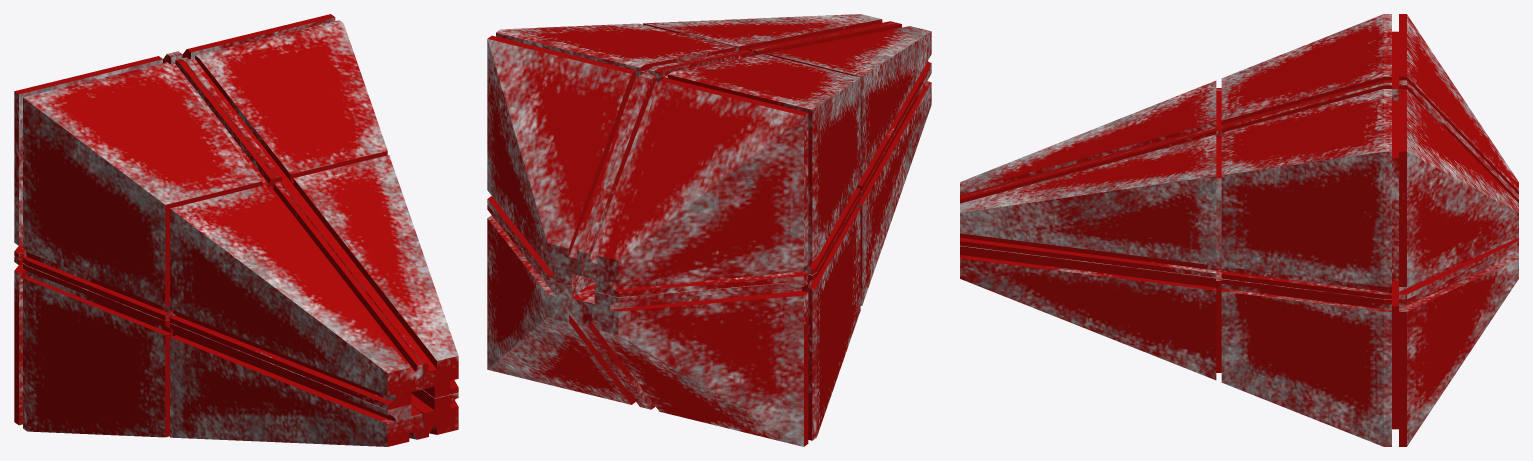
File: bit.fbx
The picture shows the model from 3 angles, left to right: view 1: azimuth 30°, elevation 25°; view 2: azimuth 150°, elevation 25°; view 3: azimuth 270°, elevation 25°; orthographic projection. The views are drawn at different scales.
Parts seen in each view (by area): view 1: Cube.002, Cube.003, Cube.001, Cube.004; view 2: Cube.002, Cube.003, Cube.001, Cube.004; view 3: Cube.001, Cube.004, Cube.002.
Part boxes in pixels (<box>): Cube.002: <box>14,53,422,409</box>; Cube.003: <box>14,257,422,446</box>; Cube.001: <box>173,14,458,397</box>; Cube.004: <box>411,389,458,438</box>; Cube.002: <box>583,22,931,297</box>; Cube.003: <box>583,68,931,446</box>; Cube.001: <box>487,14,895,285</box>; Cube.004: <box>487,204,645,407</box>; Cube.001: <box>960,83,1518,298</box>; Cube.004: <box>960,245,1518,446</box>; Cube.002: <box>960,14,1518,197</box>.
Bounding box in the file's own units: 76.9 × 76.85 × 132.
